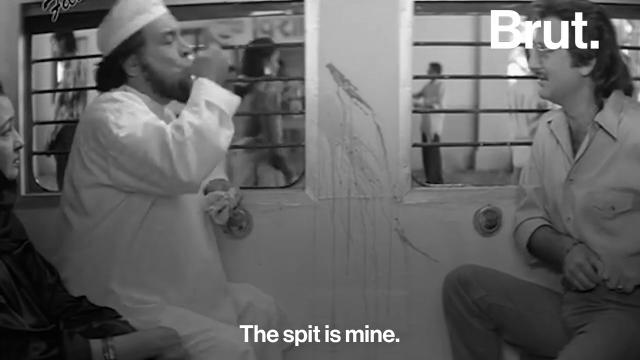spit: (307, 55, 454, 233)
